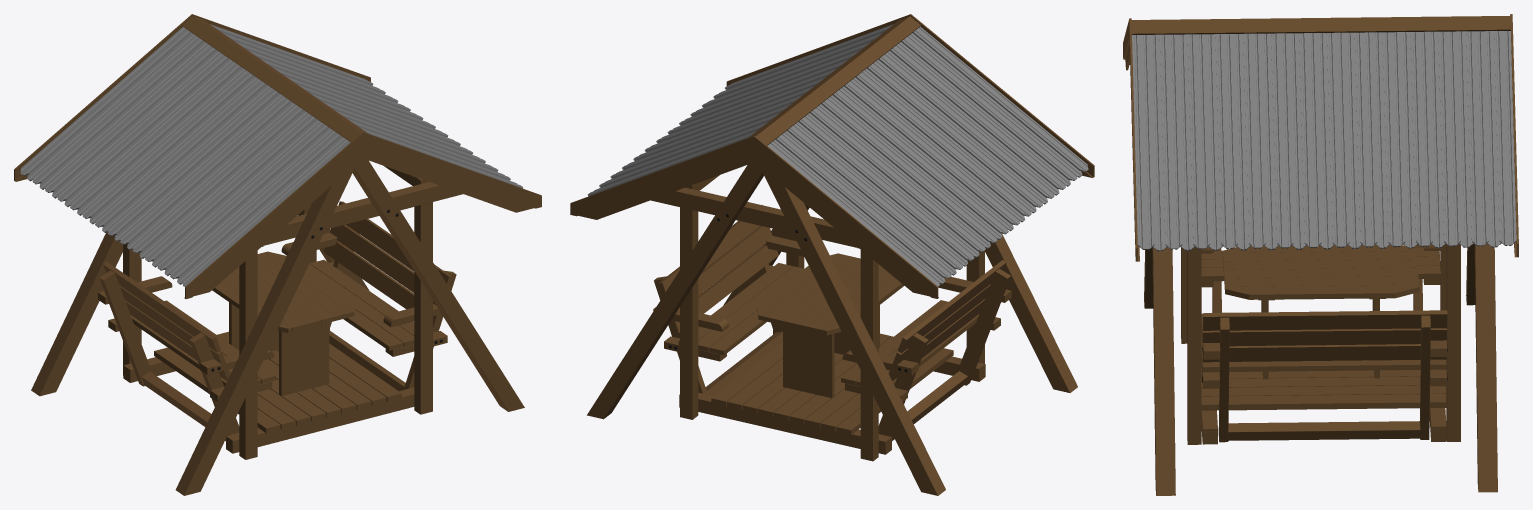
Rendered from uploads_files_813242_arbor.FBX.
3 renders of one model, left to right at view 1: azimuth 30°, elevation 25°; view 2: azimuth 150°, elevation 25°; view 3: azimuth 270°, elevation 25°, orthographic. The views are drawn at different scales.
Parts seen in each view (by area): view 1: Box099, Box134; view 2: Box099, Box134; view 3: Box134, Box099.
Part boxes in pixels (bbox=[...]): Box099: bbox=[14, 14, 541, 495]; Box134: bbox=[20, 24, 523, 286]; Box099: bbox=[570, 14, 1094, 495]; Box134: bbox=[587, 24, 1088, 286]; Box134: bbox=[1132, 31, 1516, 251]; Box099: bbox=[1123, 14, 1518, 495].
Size of the model in its own units: 120 by 101 by 95.93.
